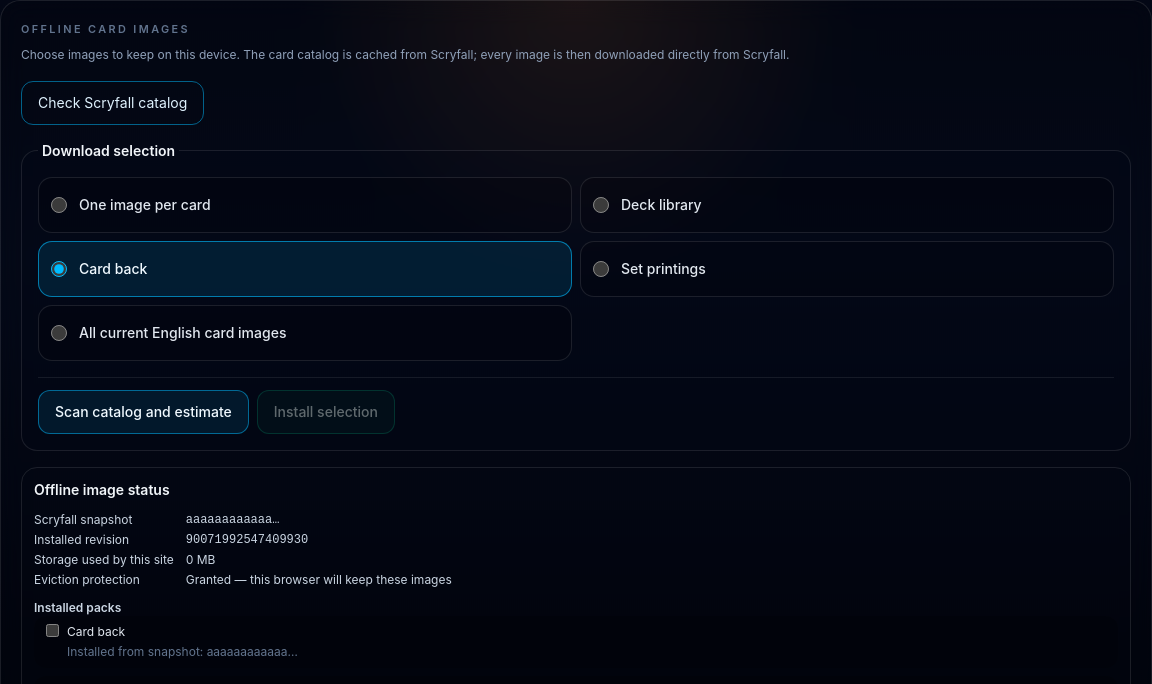
Test: VisualPackManager initialization › says nothing about drift the backend declined to measure
This screenshot has width=1152, height=684.
Check: the heading "Offline card images" is shown, box top-left (21, 22), bottom-right (190, 36)
Click the radio button labelled "One image per card": (59, 205) top-left (51, 197), bottom-right (67, 213)
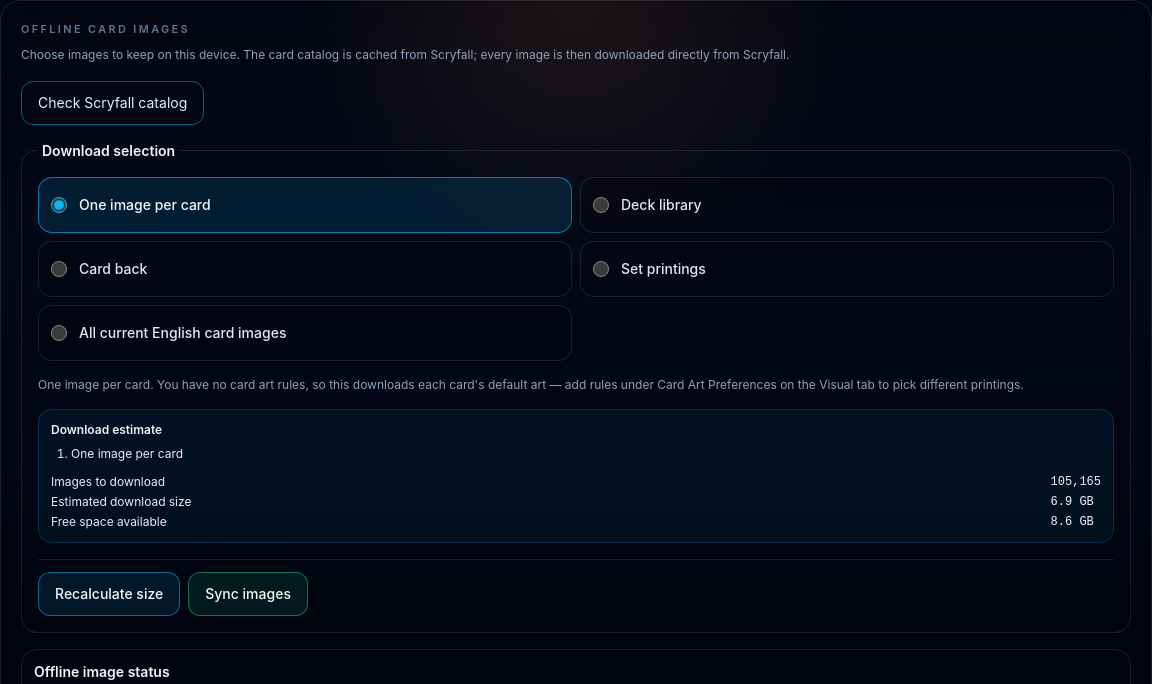
Check: the text "Estimated download size" is shown, box top-left (51, 494), bottom-right (192, 509)
Check: the button "Sync images" is shown, box top-left (188, 572), bottom-right (308, 616)
Check: the button "Install selection" is gone
